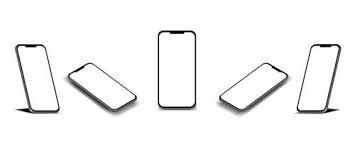Smartphone: (216, 61, 286, 119), (13, 41, 66, 113), (296, 40, 342, 113), (70, 61, 134, 113), (157, 34, 191, 108)
